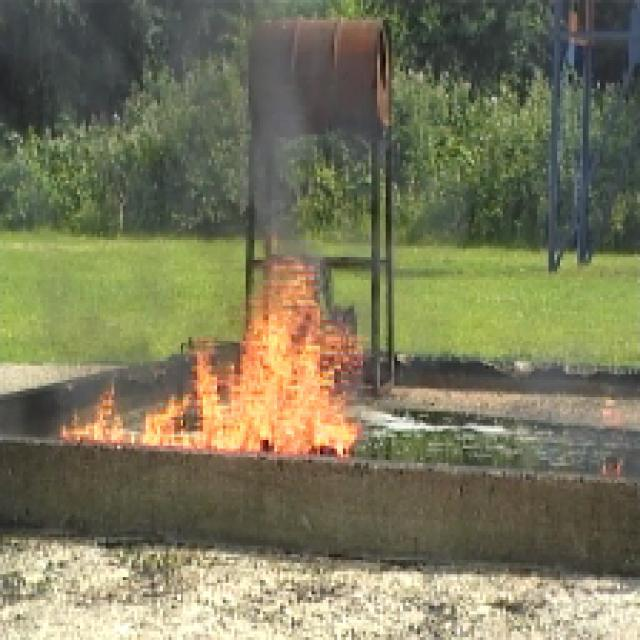Fire: (65, 257, 358, 463)
